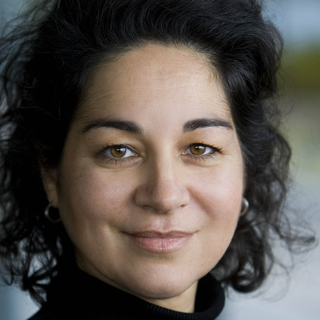eye: (94, 140, 145, 164), (178, 139, 225, 163)
